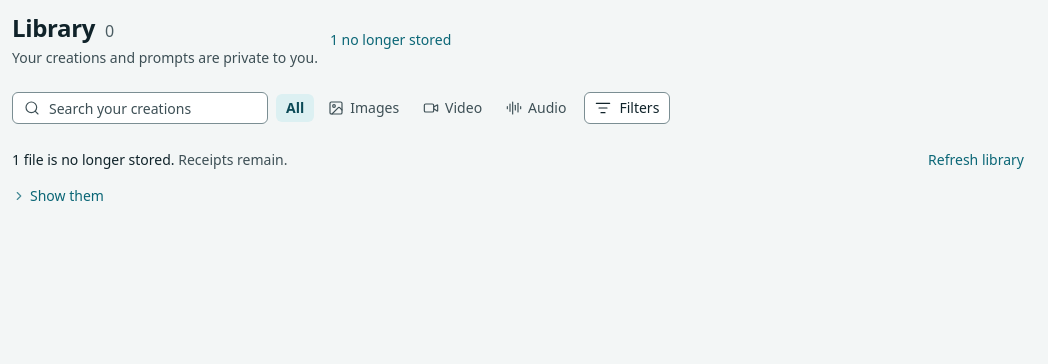
Scenario: shows unavailable reason missing_or_expired with a working retry
What coordinates should you click on to do the following:
click the heading "Show them"
I would click on:
 (58, 196)
Its box is [12,180,104,212].
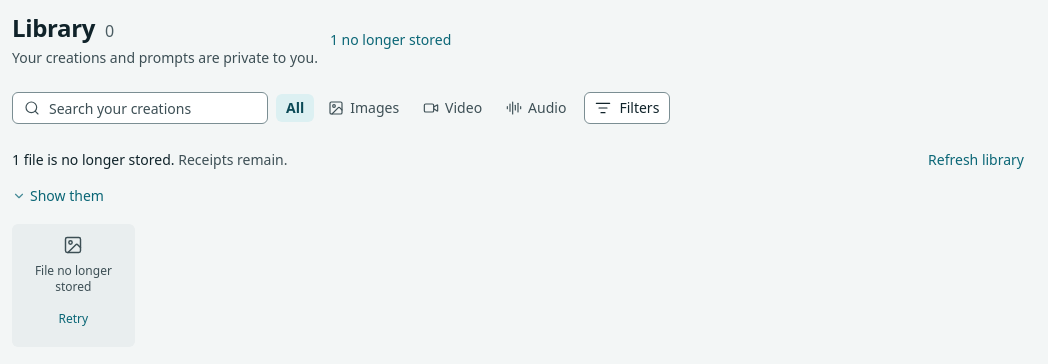
Check: the text "File no longer stored" is shown, box [35,262,112,295]
What coordinates should you click on to do the following:
click the button "Retry"
I would click on:
 (73, 319)
Its box is [50,303,96,335].
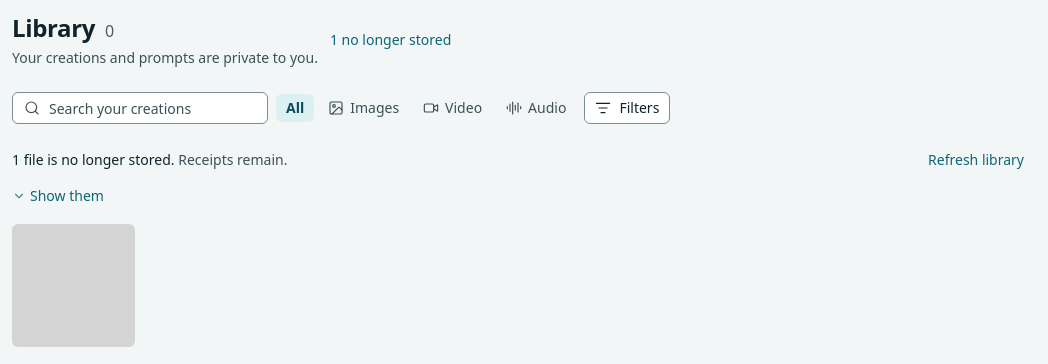
Check: the text "File no longer stored" is gone
